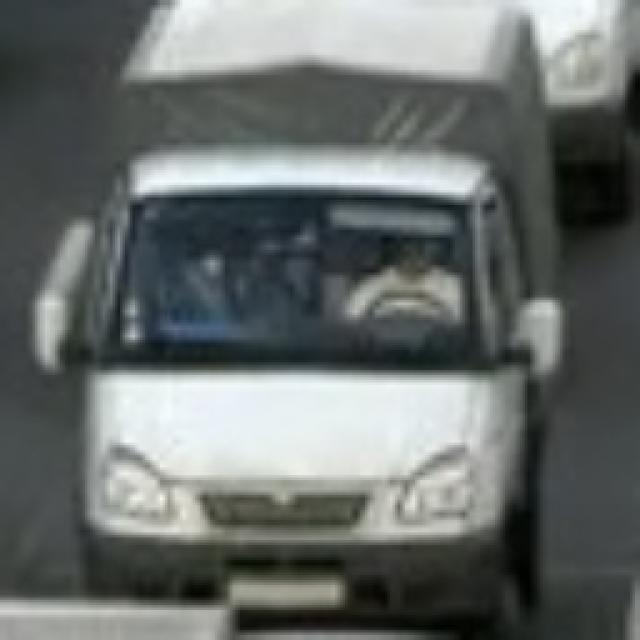windshield: (99, 188, 507, 379)
